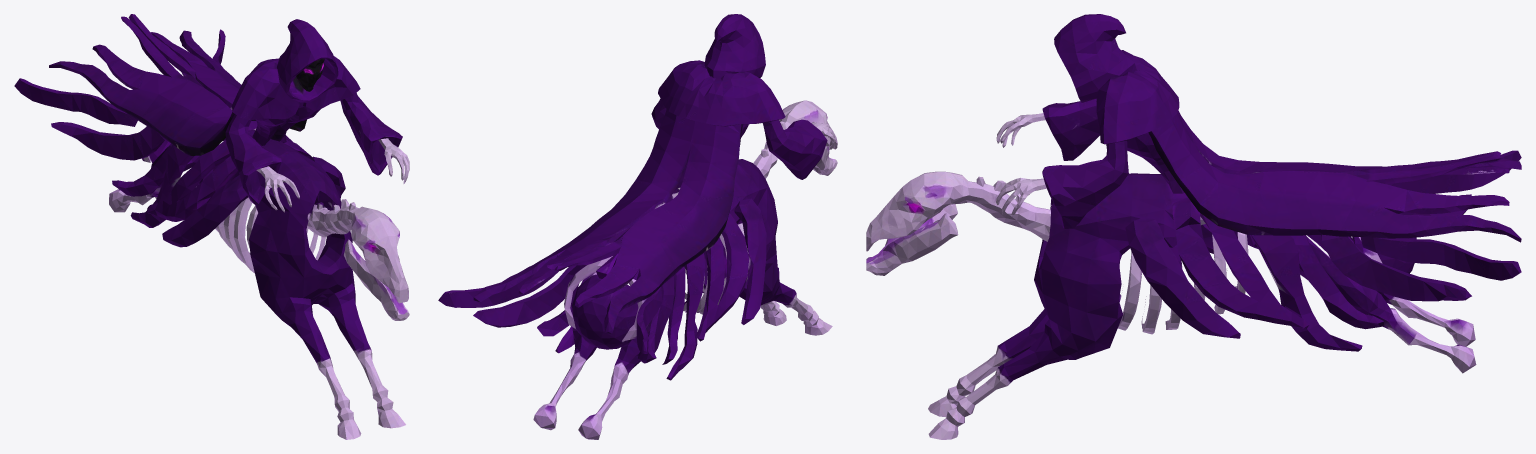
File: modelo.glb
3 views of the same model, side by side, from view 1: azimuth 30°, elevation 25°; view 2: azimuth 150°, elevation 25°; view 3: azimuth 270°, elevation 25° (orthographic). The views are drawn at different scales.
Parts seen in each view (by area): view 1: jinete; view 2: jinete; view 3: jinete.
Part boxes in pixels (x1,y1,x2,y2): jinete: (14,14,409,439); jinete: (438,14,837,439); jinete: (866,14,1521,439).
Size of the model in its own units: 1.18 by 1.93 by 2.8.
1 material, 1 textured.
